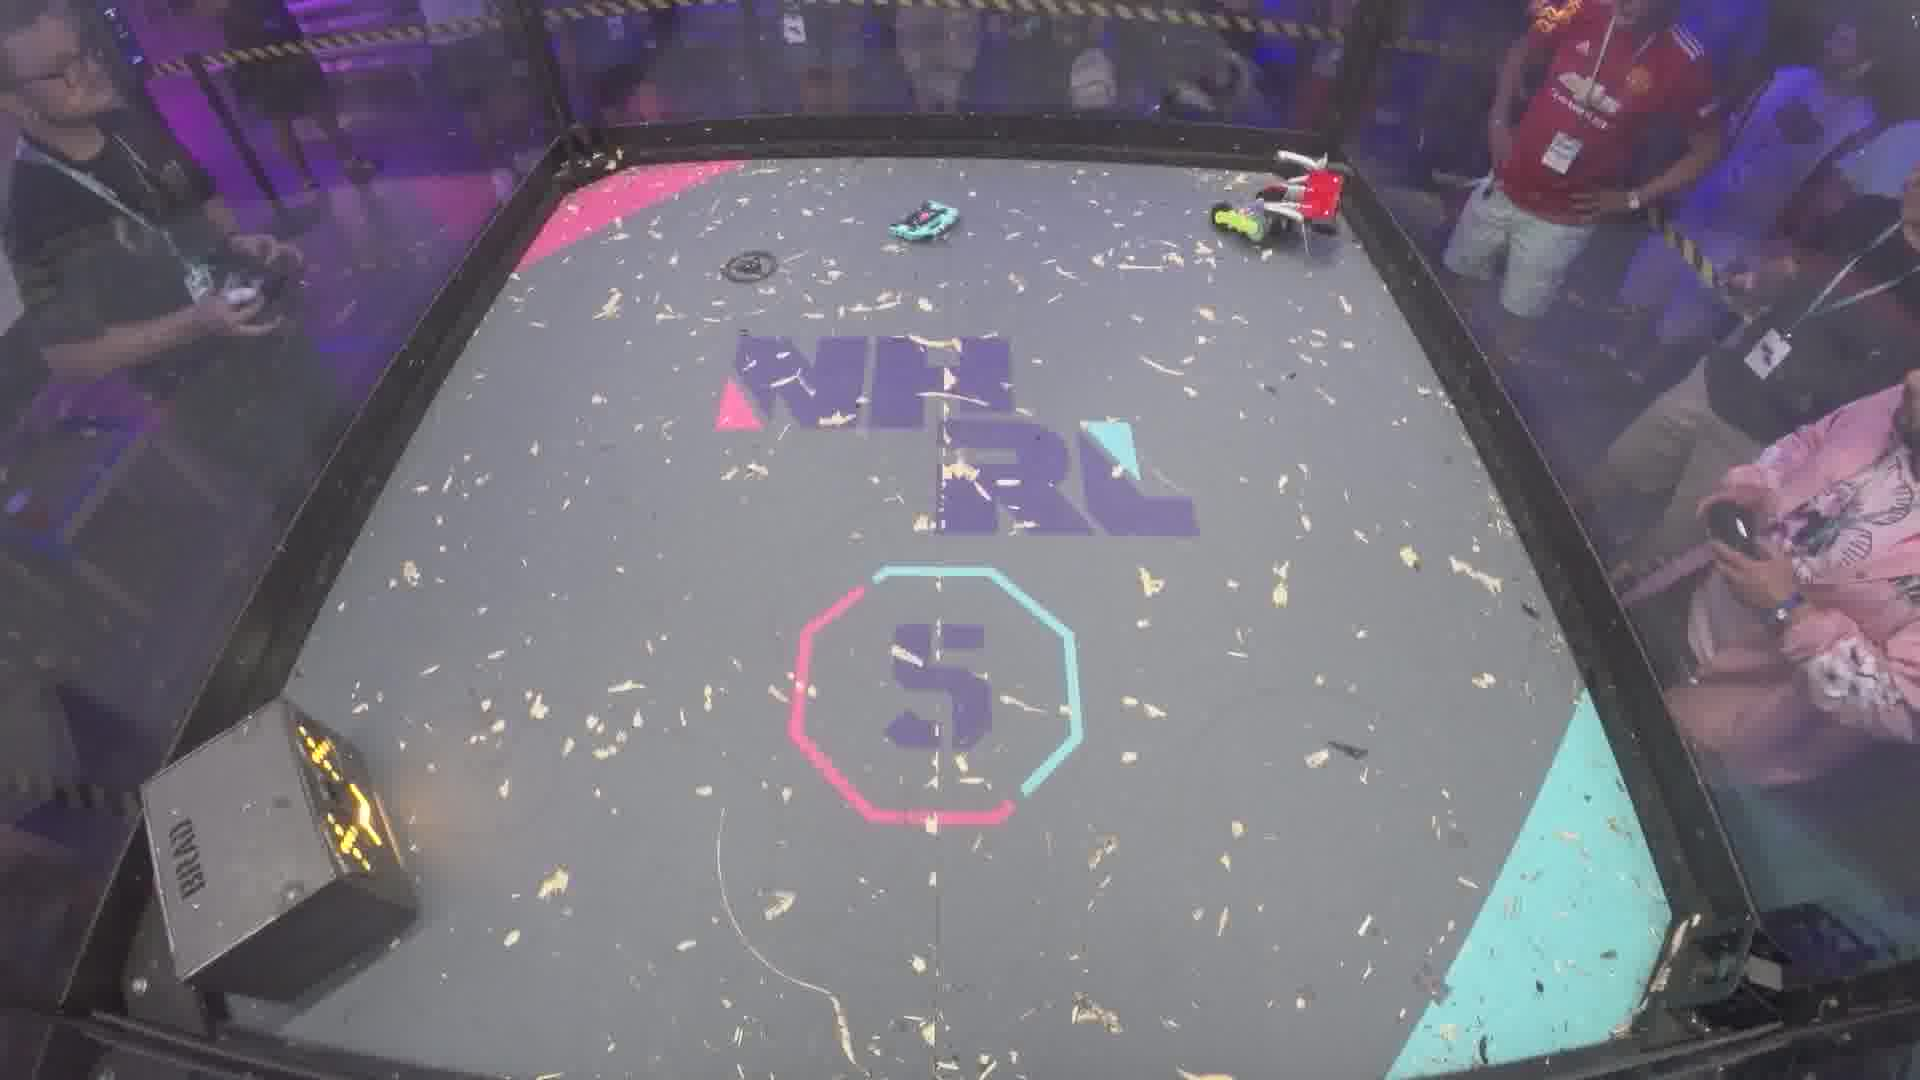combatbot: (1207, 148, 1346, 260), (887, 202, 963, 247)
debris: (720, 252, 781, 286)
housebot: (136, 692, 423, 1005)
